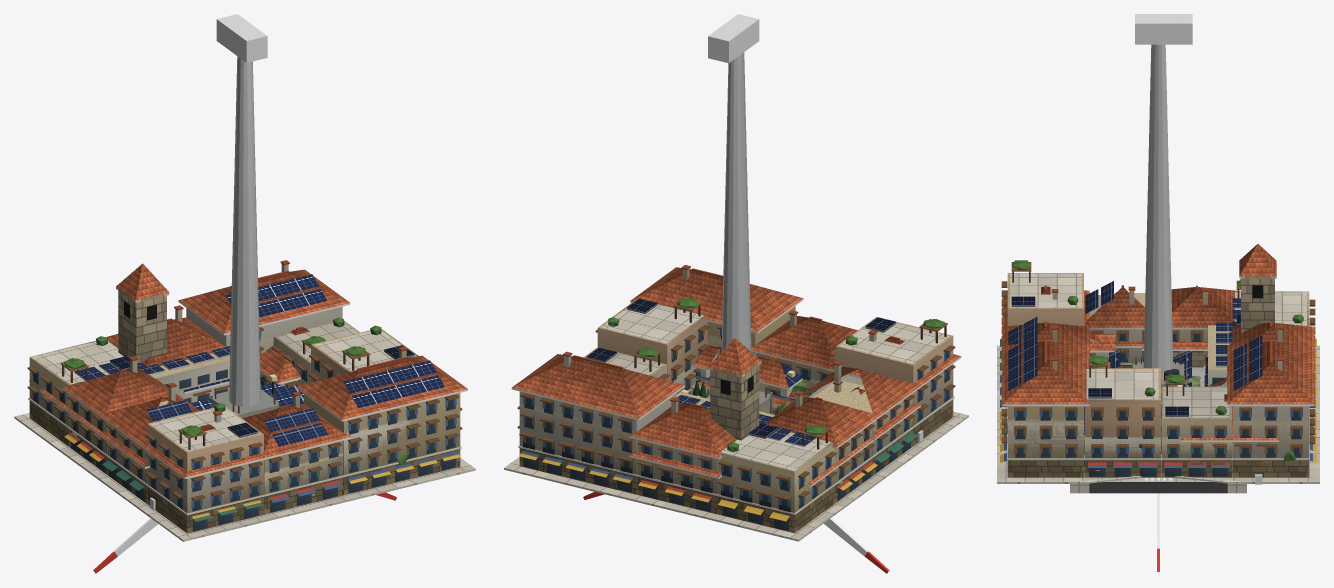
The model's file is city-kit.glb.
3 views of the same model, side by side, from view 1: azimuth 30°, elevation 25°; view 2: azimuth 150°, elevation 25°; view 3: azimuth 270°, elevation 25° (orthographic). The views are drawn at different scales.
Parts seen in each view (by area): view 1: town-block-4-era-0, town-block-4-era-1, town-block-3-era-0, wind-base, town-block-4-era-2, town-plaza-era-0, town-civic-era-0, town-block-3-era-1, town-block-3-era-2, town-civic-era-1, solar-panels, wind-rotor; view 2: town-block-4-era-0, town-block-4-era-1, town-block-3-era-0, wind-base, town-plaza-era-0, town-block-3-era-1, town-block-4-era-2, town-block-3-era-2, town-civic-era-0, district-L2-era-2, town-civic-era-1, wind-rotor; view 3: town-block-4-era-0, town-block-4-era-1, town-block-3-era-0, wind-base, town-block-4-era-2, town-plaza-era-0, district-link, town-block-3-era-1, town-civic-era-0, town-block-3-era-2, town-civic-era-1, solar-panels.
Part boxes in pixels (<box>): town-block-4-era-0: <box>15,269,467,540</box>; town-block-4-era-1: <box>14,260,475,539</box>; town-block-3-era-0: <box>14,322,475,541</box>; wind-base: <box>216,14,267,406</box>; town-block-4-era-2: <box>28,326,459,500</box>; town-plaza-era-0: <box>16,263,414,538</box>; town-civic-era-0: <box>150,326,333,541</box>; town-block-3-era-1: <box>29,336,457,511</box>; town-block-3-era-2: <box>27,336,462,500</box>; town-civic-era-1: <box>74,337,298,385</box>; solar-panels: <box>190,382,303,410</box>; wind-rotor: <box>93,492,396,573</box>; town-block-4-era-0: <box>511,267,968,541</box>; town-block-4-era-1: <box>504,269,968,540</box>; town-block-3-era-0: <box>505,330,968,540</box>; wind-base: <box>708,14,759,351</box>; town-plaza-era-0: <box>645,338,882,540</box>; town-block-3-era-1: <box>519,344,953,511</box>; town-block-4-era-2: <box>517,265,955,500</box>; town-block-3-era-2: <box>517,345,955,500</box>; town-civic-era-0: <box>504,380,872,483</box>; district-L2-era-2: <box>759,355,802,396</box>; town-civic-era-1: <box>664,395,816,446</box>; wind-rotor: <box>583,492,889,573</box>; town-block-4-era-0: <box>999,262,1316,483</box>; town-block-4-era-1: <box>997,270,1319,483</box>; town-block-3-era-0: <box>997,285,1319,483</box>; wind-base: <box>1135,14,1192,379</box>; town-block-4-era-2: <box>1001,260,1315,447</box>; town-plaza-era-0: <box>997,244,1276,483</box>; district-link: <box>1070,476,1246,493</box>; town-block-3-era-1: <box>1003,299,1313,457</box>; town-civic-era-0: <box>1035,293,1280,483</box>; town-block-3-era-2: <box>1001,279,1315,447</box>; town-civic-era-1: <box>1191,298,1269,462</box>; solar-panels: <box>1108,348,1191,429</box>.
Size of the model in its own units: 0.0613 by 0.0975 by 0.0588.
1 material, 1 textured.
